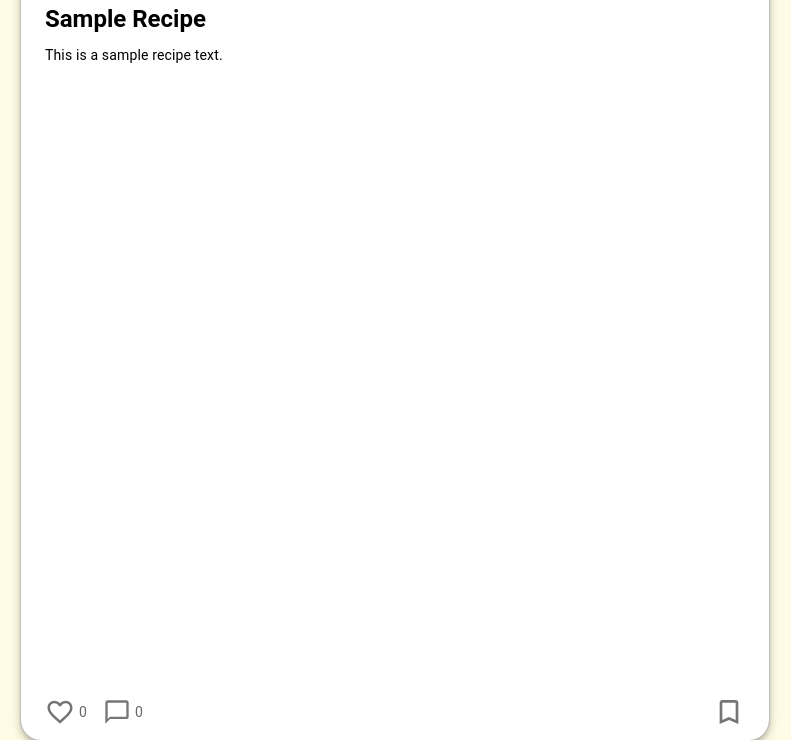
Test case: RecipeMini Component › toggles bookmark if user is logged in
The image size is (791, 740).
(page scrolled)
// Click bookmark
Click the button with test id "bookmark-button". click: (729, 712)
box: [713,696,745,728]
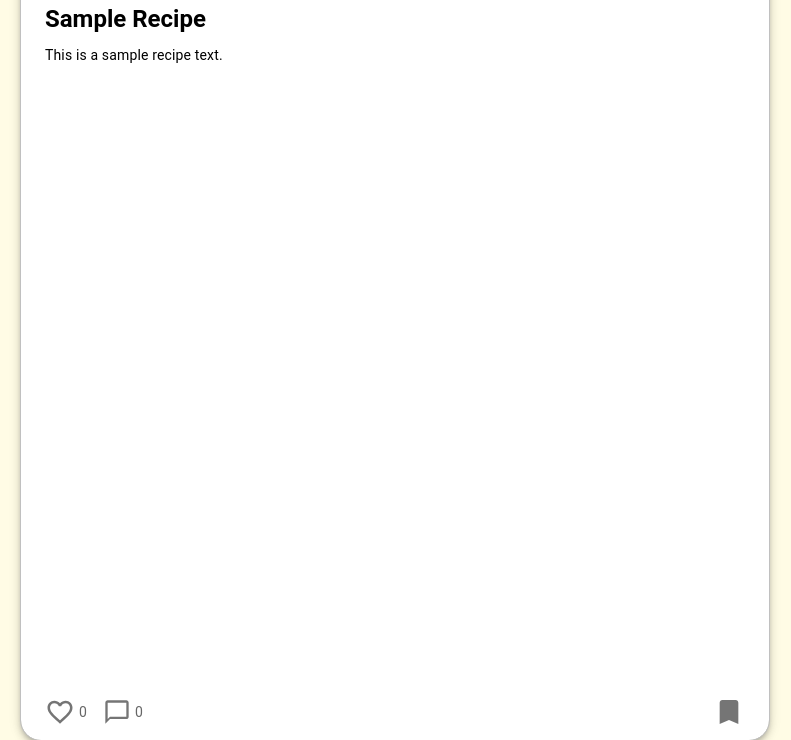
Check: the icon with test id "bookmark-icon-filled" is shown, box [713,696,745,728]
Check: the icon with test id "bookmark-icon-border" is gone
